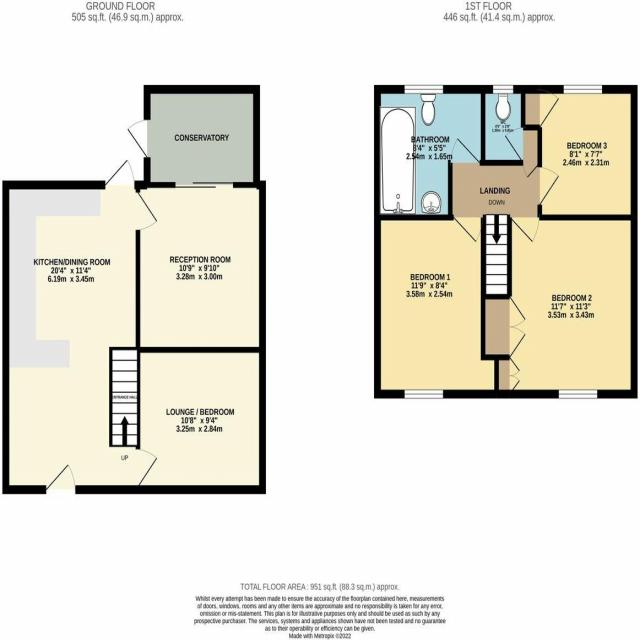DOOR: (104, 158, 135, 190), (45, 463, 77, 494), (135, 447, 159, 488), (509, 214, 541, 244), (452, 214, 484, 244), (449, 137, 481, 166), (537, 166, 560, 206), (135, 191, 158, 231), (504, 127, 524, 161)
ROOM: (2, 158, 159, 495), (481, 214, 638, 399), (374, 214, 499, 399), (134, 180, 266, 353), (520, 84, 638, 221)
WINDOW: (558, 389, 598, 399), (563, 84, 603, 94), (404, 389, 444, 399), (404, 85, 444, 94), (492, 84, 514, 95)
